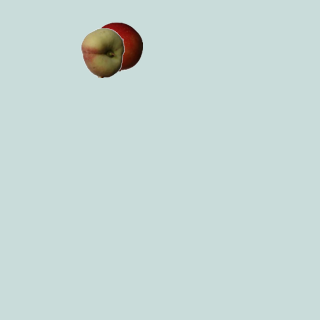Apple Braeburn: (92, 21, 142, 71)
Peach Flat: (77, 27, 127, 77)
